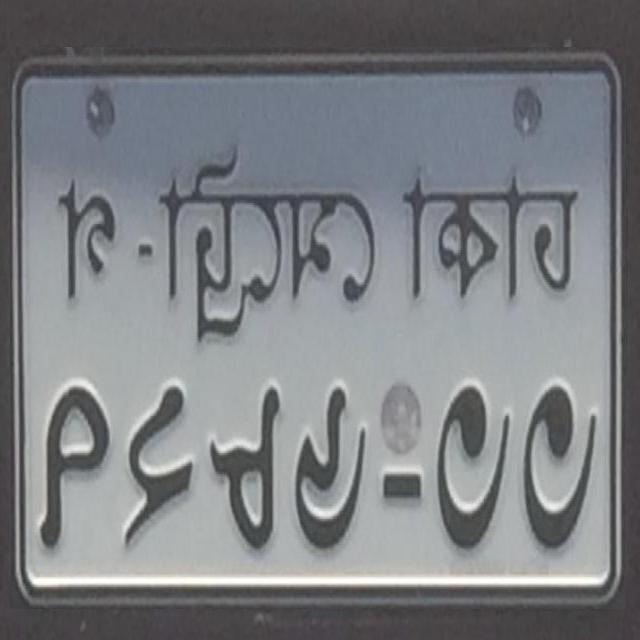numberplate: (10, 47, 626, 609)
